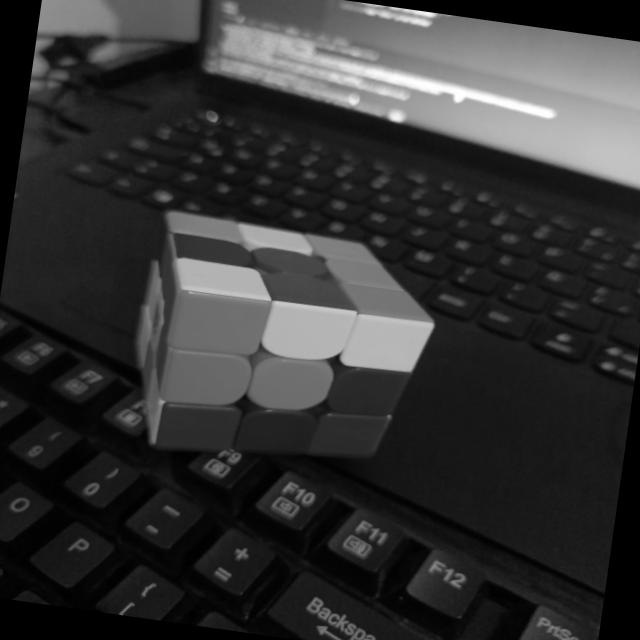rubik: (120, 205, 447, 484)
